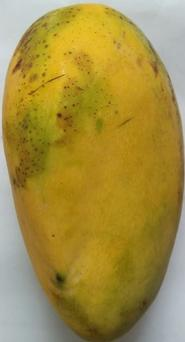Ripe: (0, 1, 185, 342)
